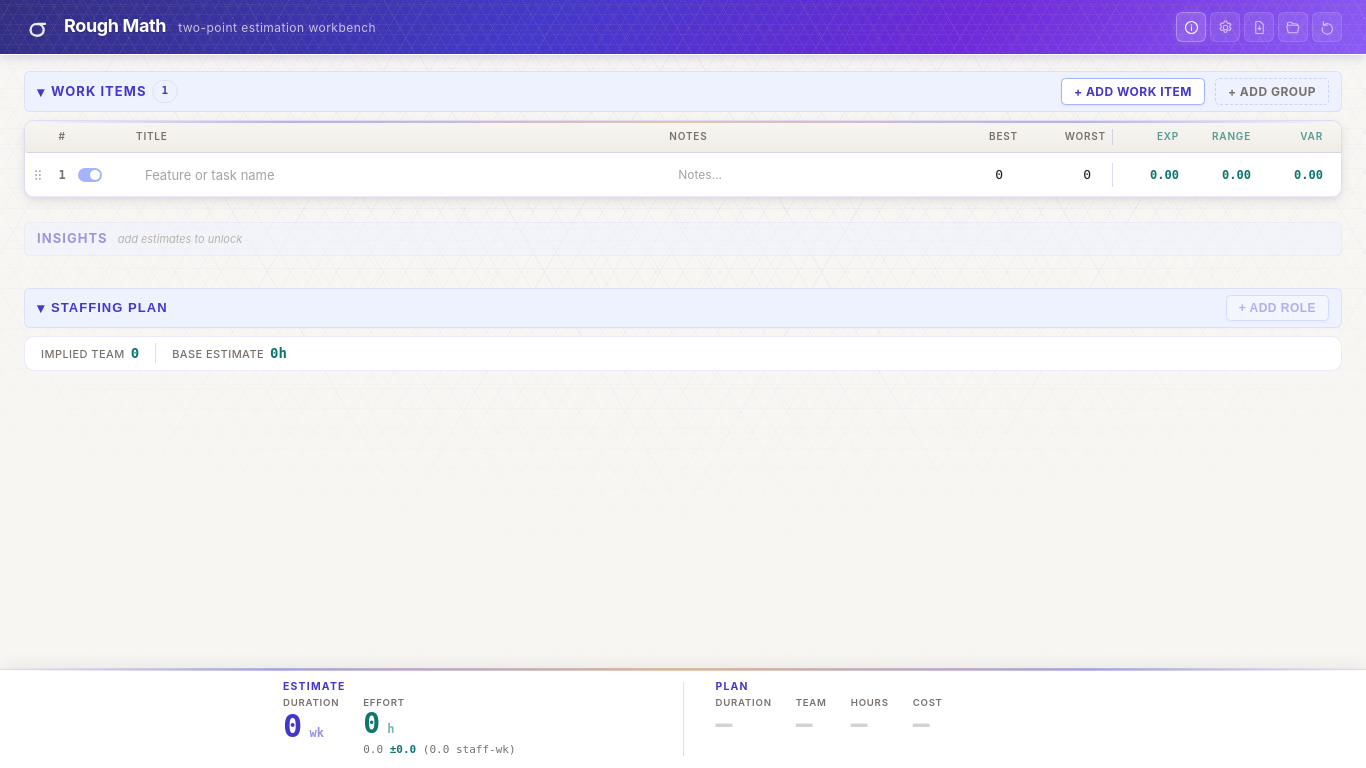
Test: App - UI Integration Tests › displays zero values correctly when best equals worst
Replace the text in the number field named "Best case hours for work item 1" with "100" at (980, 174), box [936,158,1024,190]
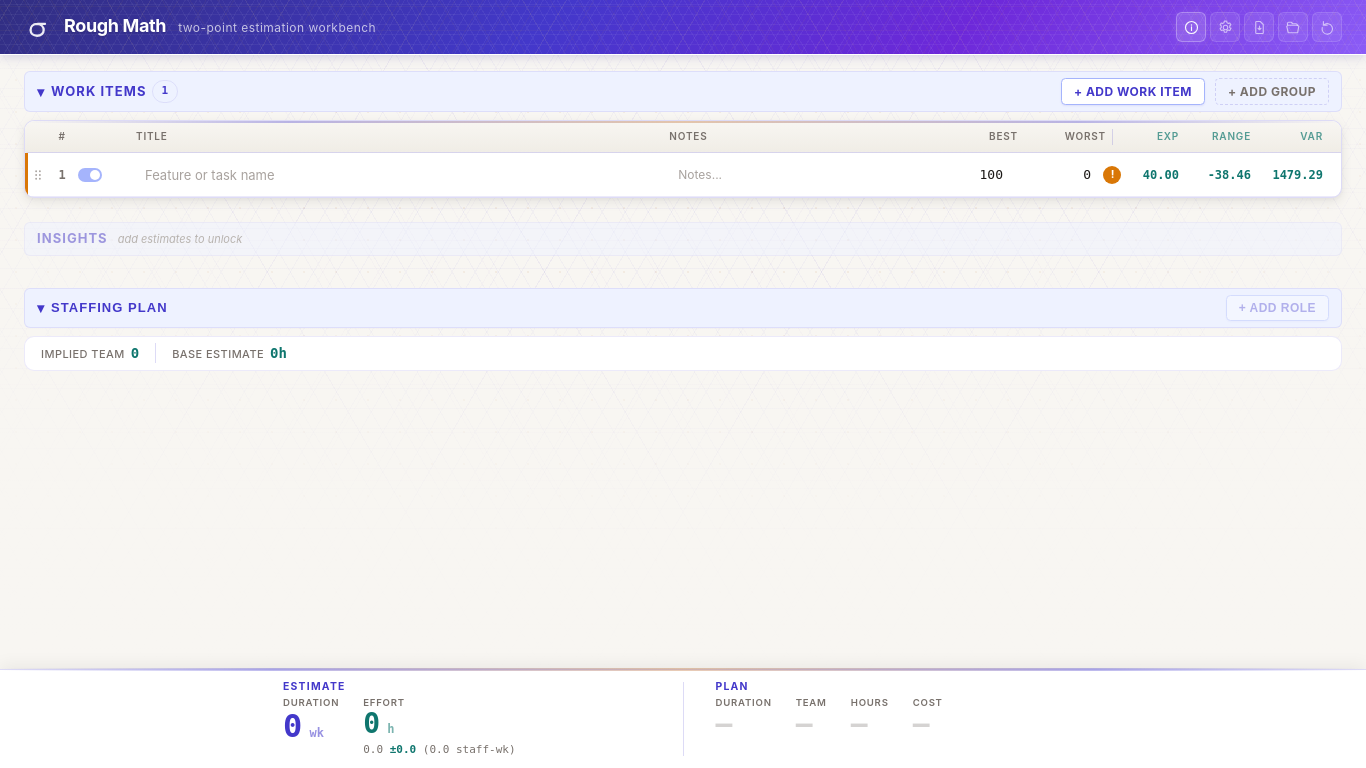
Replace the text in the number field named "Worst case hours for work item 1" with "100" at (1068, 174), box [1024,158,1112,190]
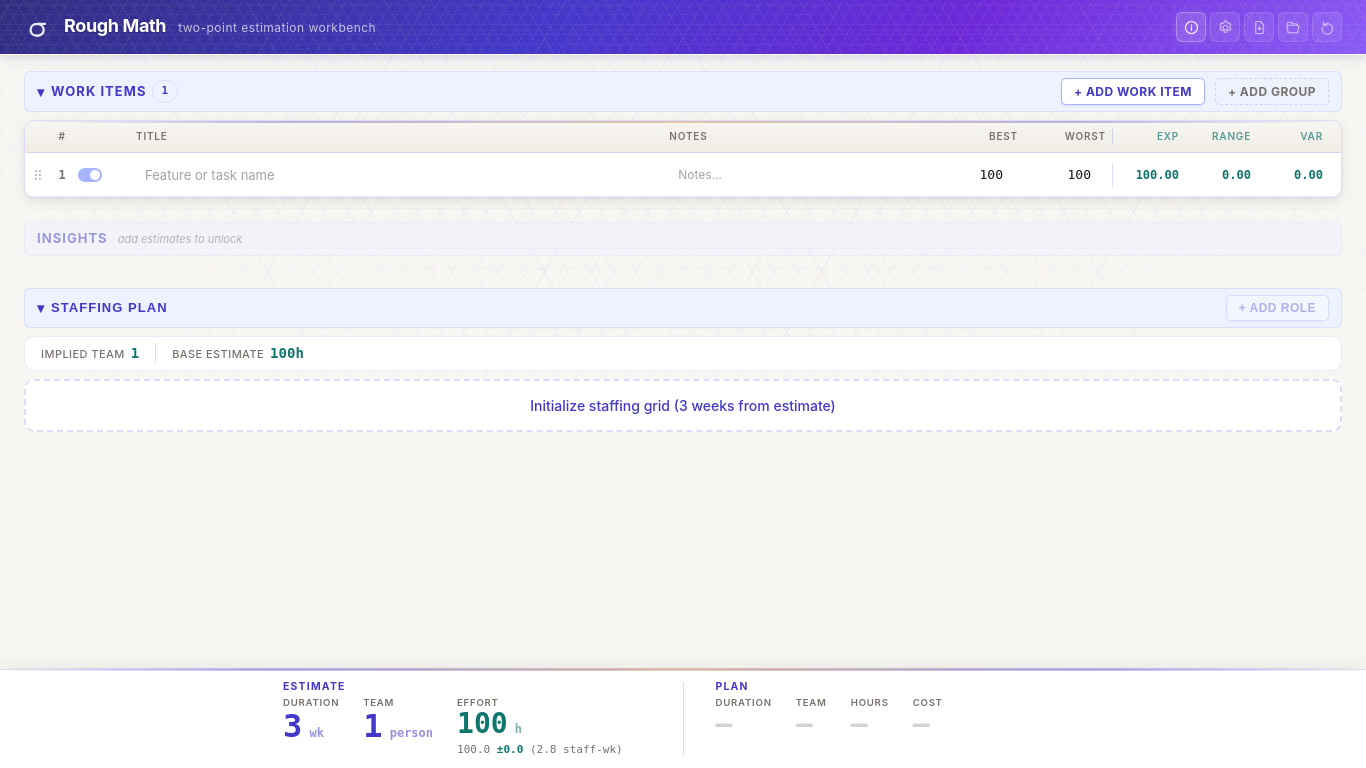
expect the text named "Range spread: 0.00 hours" is shown: met, box [1222,168,1251,182]
expect the text named "Variance: 0.00" is shown: met, box [1294,168,1323,182]
